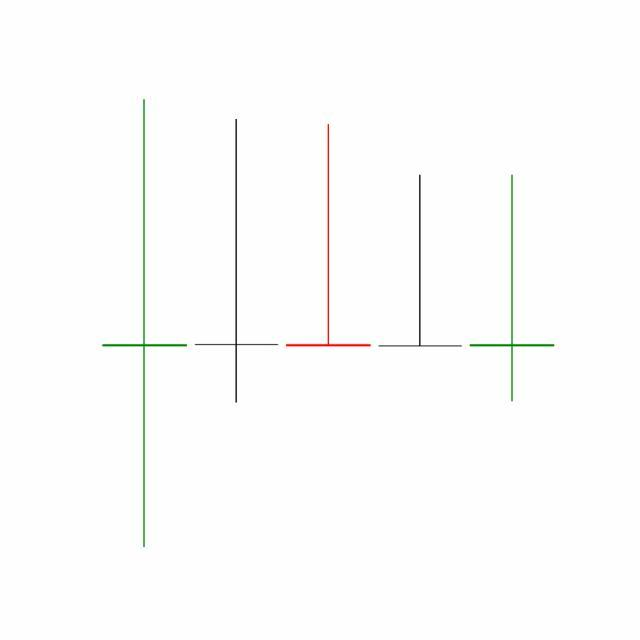Gravestone Doji: (374, 173, 468, 348)
